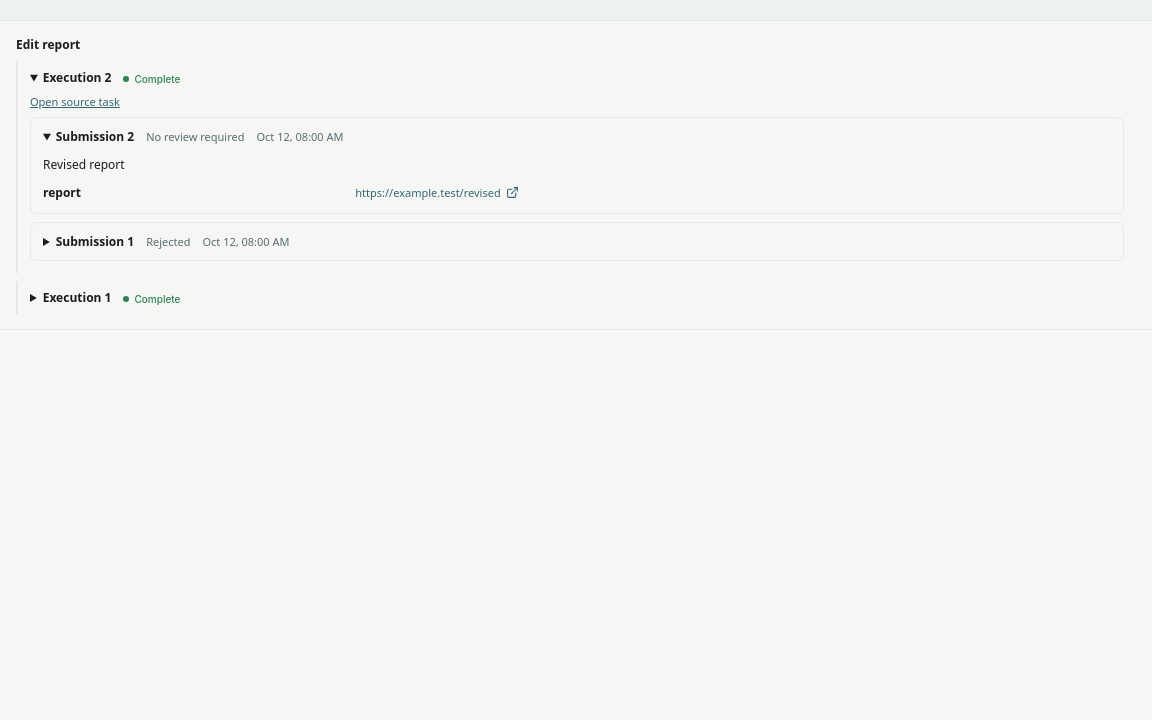
Test case: distinguishes same-name loop artifacts by source and submission, collapsing older history
The image size is (1152, 720).
Expected: the text "Edit report" is shown once, [16,36,80,53]
Expected: the number of elements with class "artifact-node-history" is 1, [16,36,1136,314]
Click the text "Execution 1".
click(77, 298)  # box [43,289,111,306]
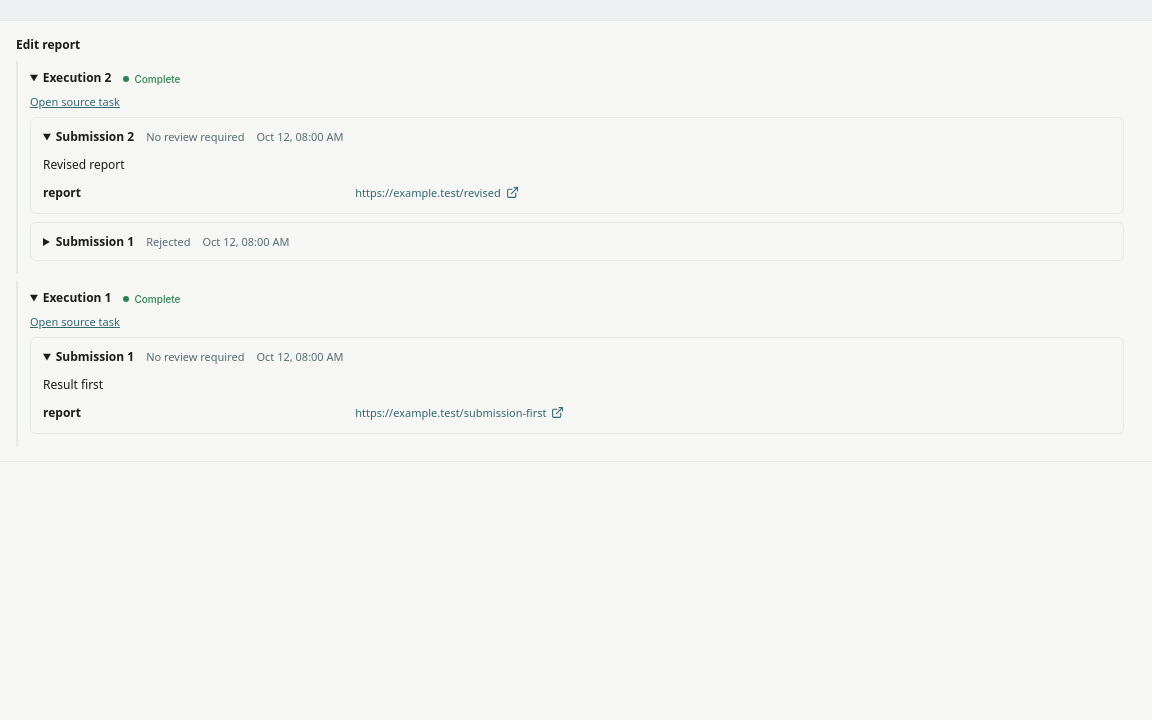
Result: the text "Execution 1" has attribute open at [16,281,1136,446]
Click the text "Submission 1" next to "Rejected".
click(95, 242)  # box [56,233,134,250]
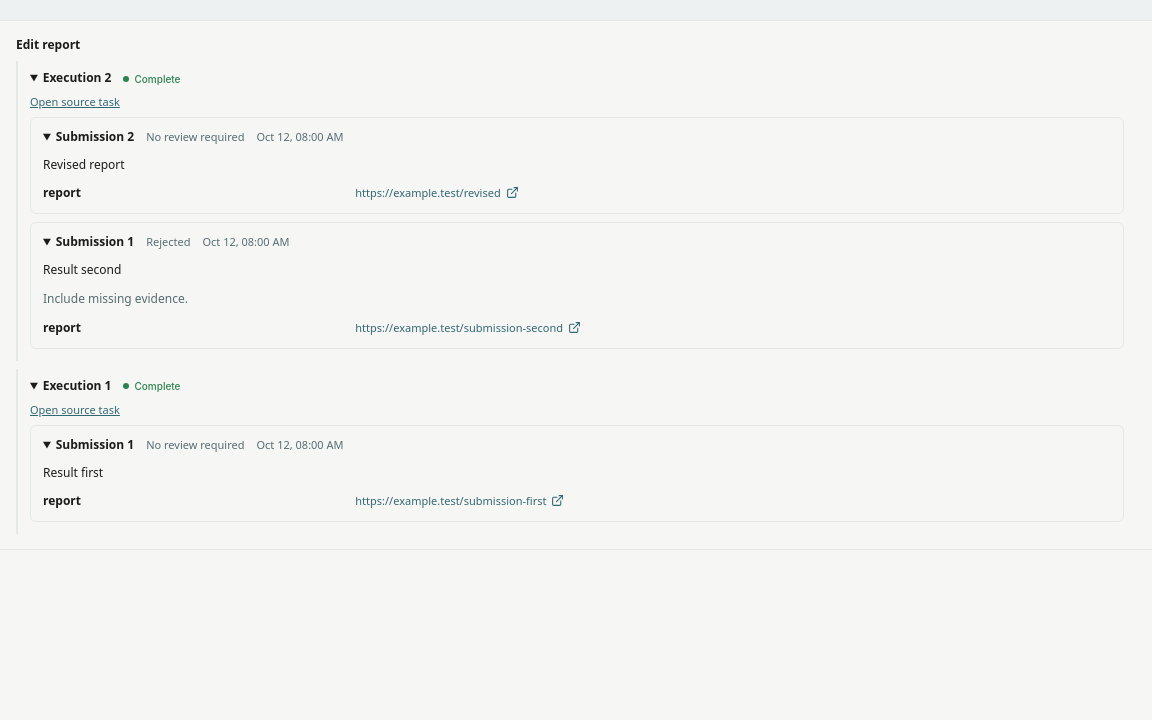
Result: the text "Include missing evidence." is shown at [43,290,188,307]
Result: the text "report" is shown 3 times at [43,184,81,201]; [43,319,81,336]; [43,492,81,509]
